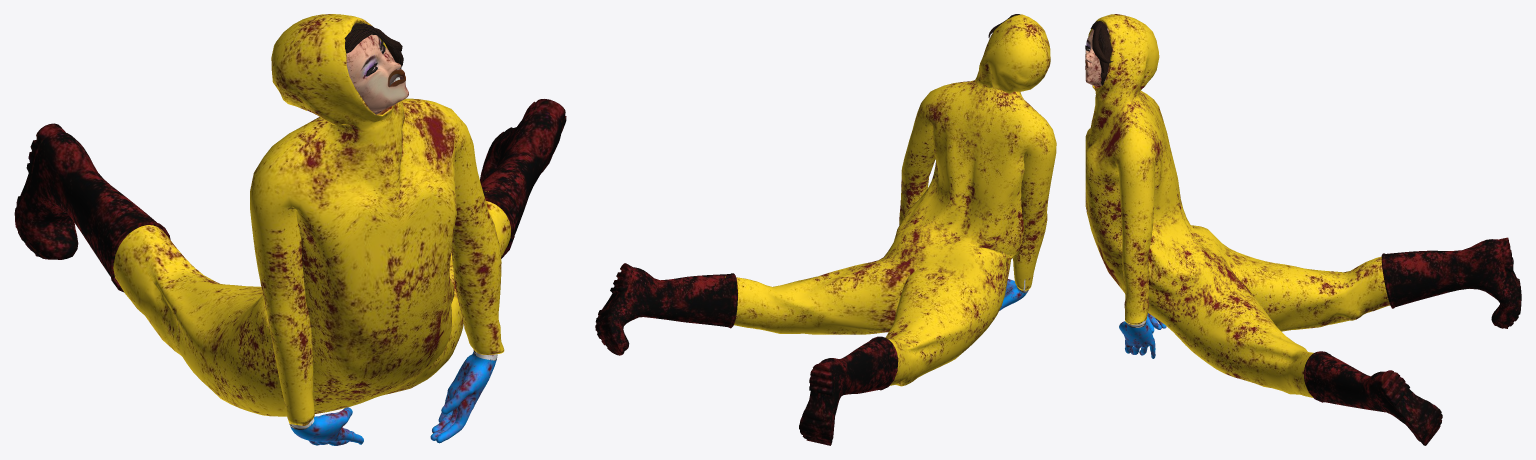
File: dead-hazmat-agent.glb
3 renders of one model, left to right at view 1: azimuth 30°, elevation 25°; view 2: azimuth 150°, elevation 25°; view 3: azimuth 270°, elevation 25°, orthographic. The views are drawn at different scales.
Visible parts, largest first — view 1: Dead_Hazmat_Female; view 2: Dead_Hazmat_Female; view 3: Dead_Hazmat_Female.
Part boxes in pixels (x1=…): Dead_Hazmat_Female: x1=14, y1=14, x2=566, y2=445; Dead_Hazmat_Female: x1=595, y1=14, x2=1056, y2=445; Dead_Hazmat_Female: x1=1085, y1=14, x2=1521, y2=445.
Bounding box in the file's own units: 1.01 × 0.8655 × 1.14.
Materials: 1 (1 with a texture image).
